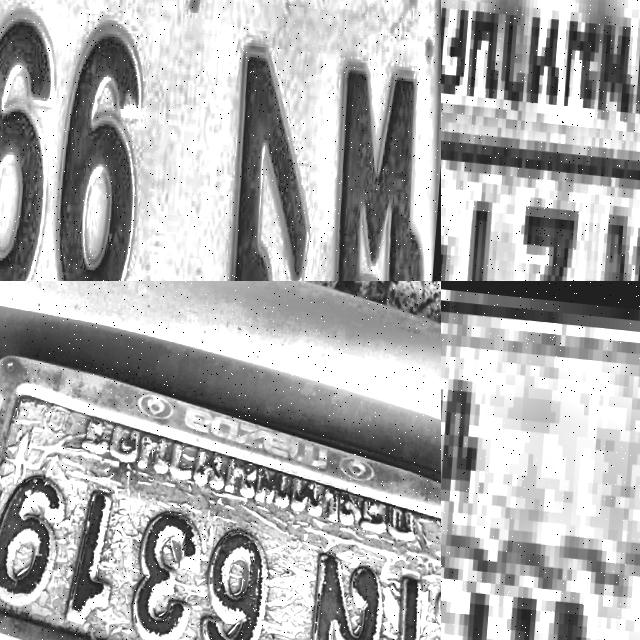license-plate: (0, 313, 441, 640), (0, 0, 441, 281), (441, 281, 640, 640), (441, 0, 640, 281)
